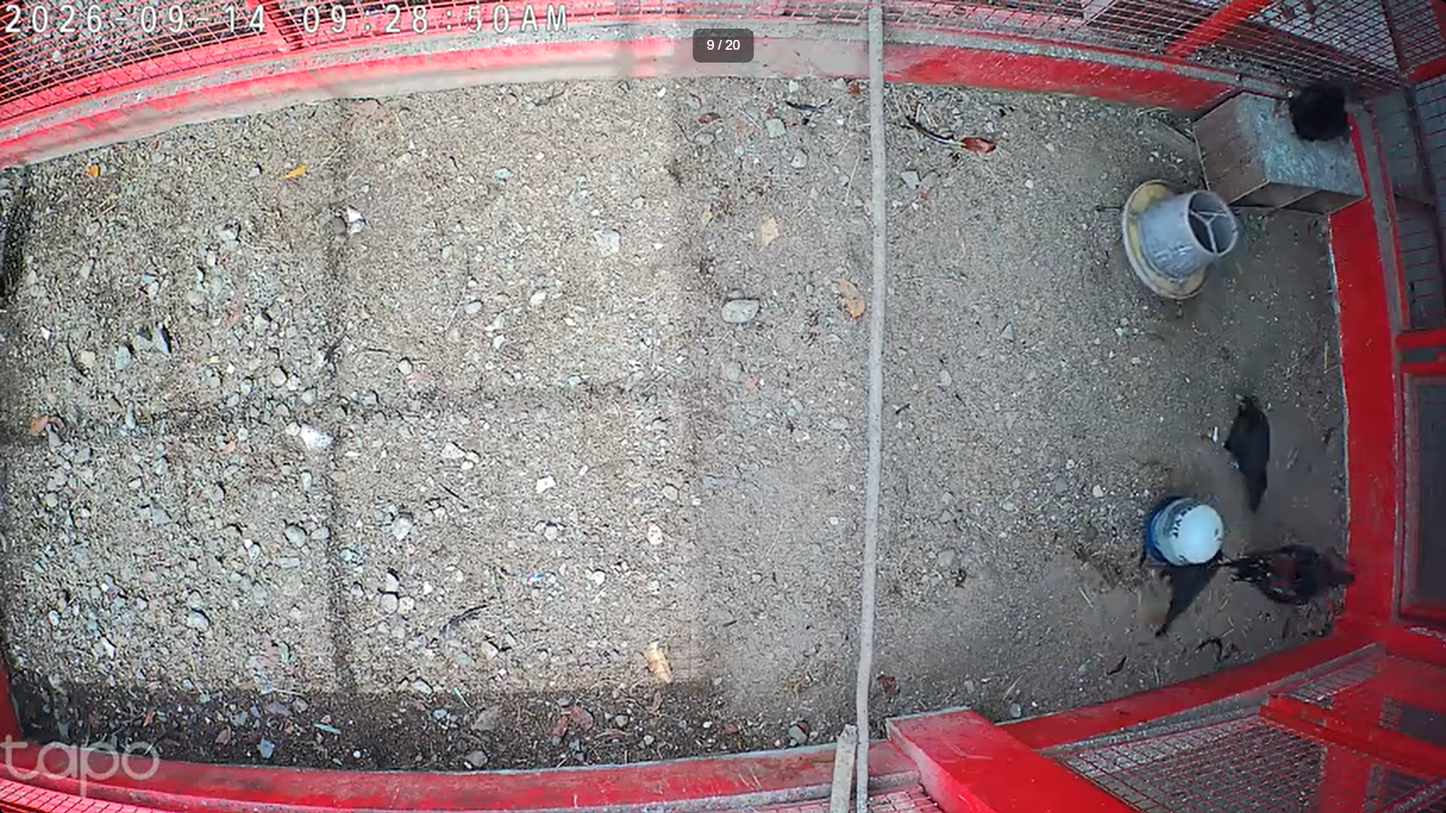Chicken: (1208, 393, 1273, 516)
Rooster: (1214, 542, 1355, 609)
